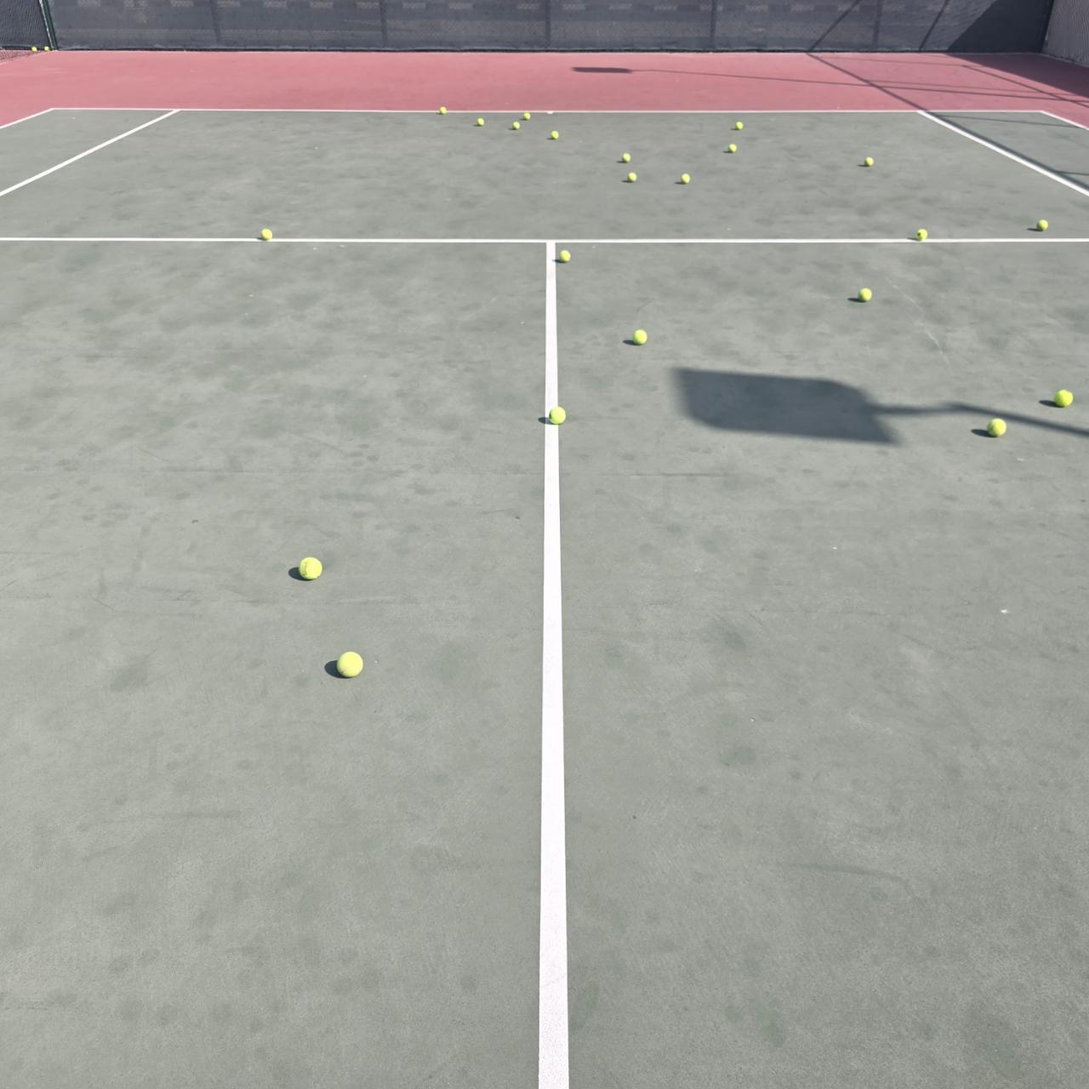tennis-ball: (335, 648, 364, 677), (298, 554, 322, 579), (985, 416, 1006, 436), (1053, 387, 1073, 407), (547, 404, 566, 425), (631, 327, 647, 345), (857, 286, 872, 302), (556, 248, 571, 262), (259, 227, 272, 241), (1036, 219, 1049, 232), (916, 228, 928, 242), (680, 173, 691, 184), (627, 171, 637, 182), (728, 143, 738, 153), (864, 157, 874, 167), (735, 121, 744, 130), (551, 130, 559, 140), (622, 153, 630, 163), (477, 118, 485, 126), (512, 122, 520, 130), (523, 112, 531, 120), (439, 107, 446, 115), (43, 46, 49, 51), (32, 47, 37, 52)
